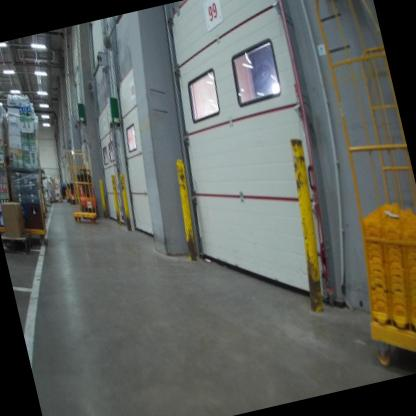pallet_truck: (70, 157, 105, 222), (65, 176, 82, 205)
